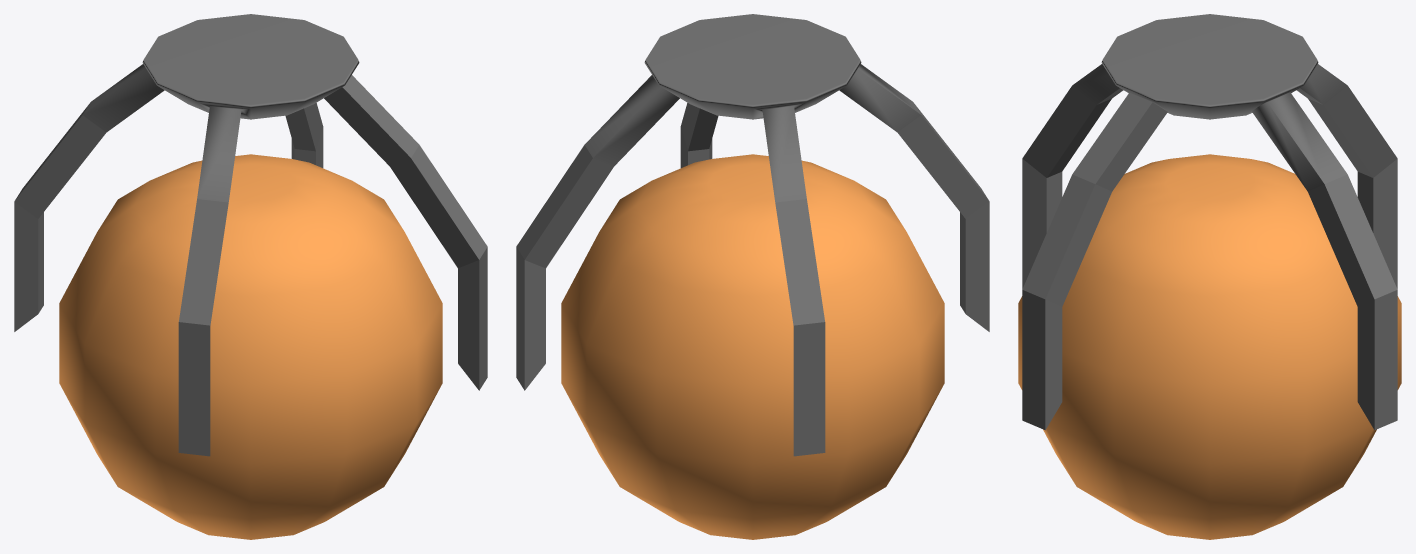
Rendered from Orbe.fbx.
3 views of the same model, side by side, from view 1: azimuth 30°, elevation 25°; view 2: azimuth 150°, elevation 25°; view 3: azimuth 270°, elevation 25° (orthographic).
Visible parts, largest first — view 1: Suporte Orbe; view 2: Suporte Orbe; view 3: Suporte Orbe.
Boxes of the visible parts, box(x1,y1,x2,y2) form: Suporte Orbe: box(14, 14, 487, 539); Suporte Orbe: box(516, 14, 989, 539); Suporte Orbe: box(1018, 14, 1401, 539).
Size of the model in its own units: 29.89 by 39.74 by 29.89.
